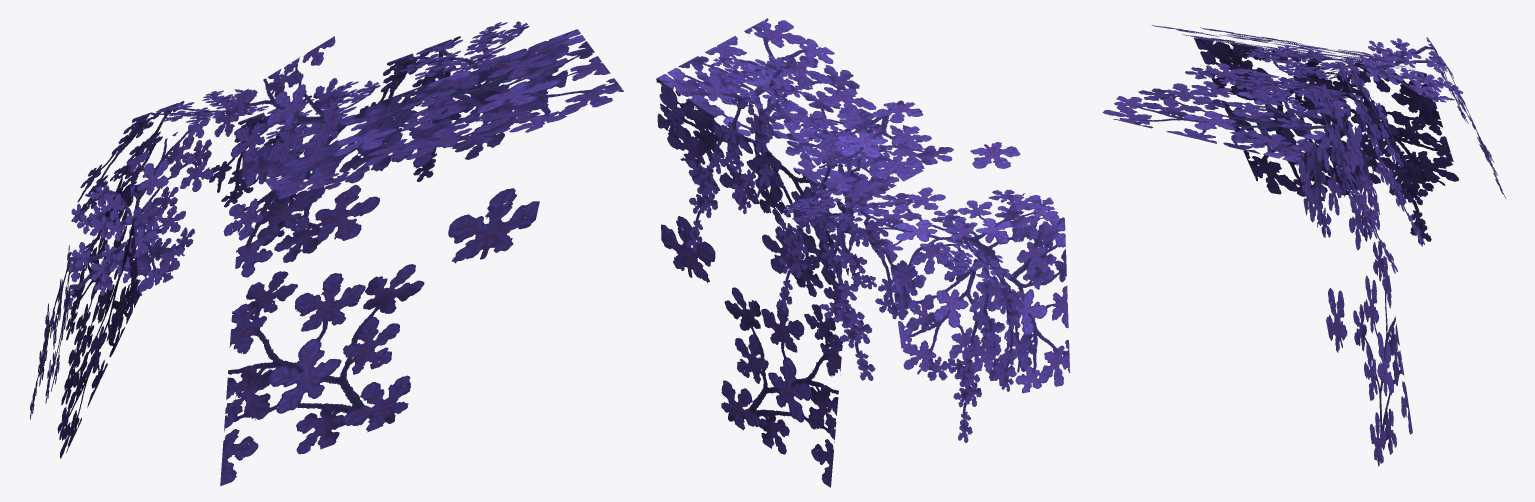
Rendered from ivy2.fbx.
3 renders of one model, left to right at view 1: azimuth 30°, elevation 25°; view 2: azimuth 150°, elevation 25°; view 3: azimuth 270°, elevation 25°, orthographic. The views are drawn at different scales.
Parts seen in each view (by area): view 1: IVY2; view 2: IVY2; view 3: IVY2.
Boxes of the visible parts, x1,y1,x2,y2 form: IVY2: [30, 21, 623, 486]; IVY2: [656, 18, 1069, 487]; IVY2: [1102, 25, 1505, 466].
Size of the model in its own units: 99.84 by 83.51 by 72.28.
